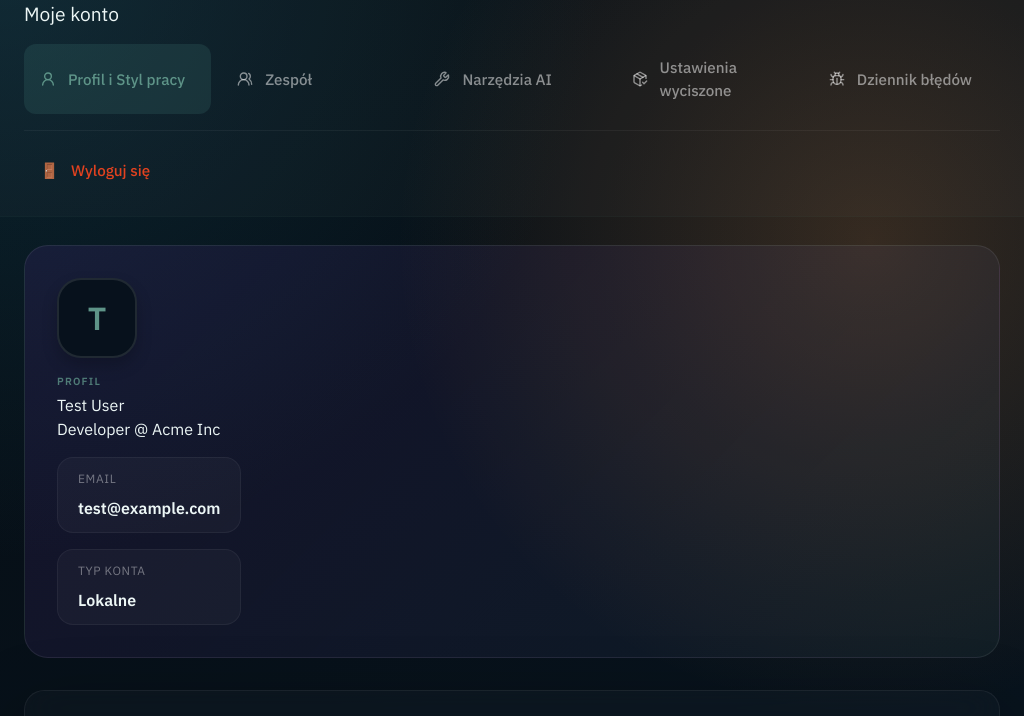
Scenario: ProfileTab › Tag Manager Section › allows editing tag names
This screenshot has width=1024, height=716.
What coordinates should you click on to do the following:
click the button "Narzędzia AI"
I would click on:
 (512, 79)
Its box is x1=418 y1=44 x2=606 y2=114.
(page scrolled)
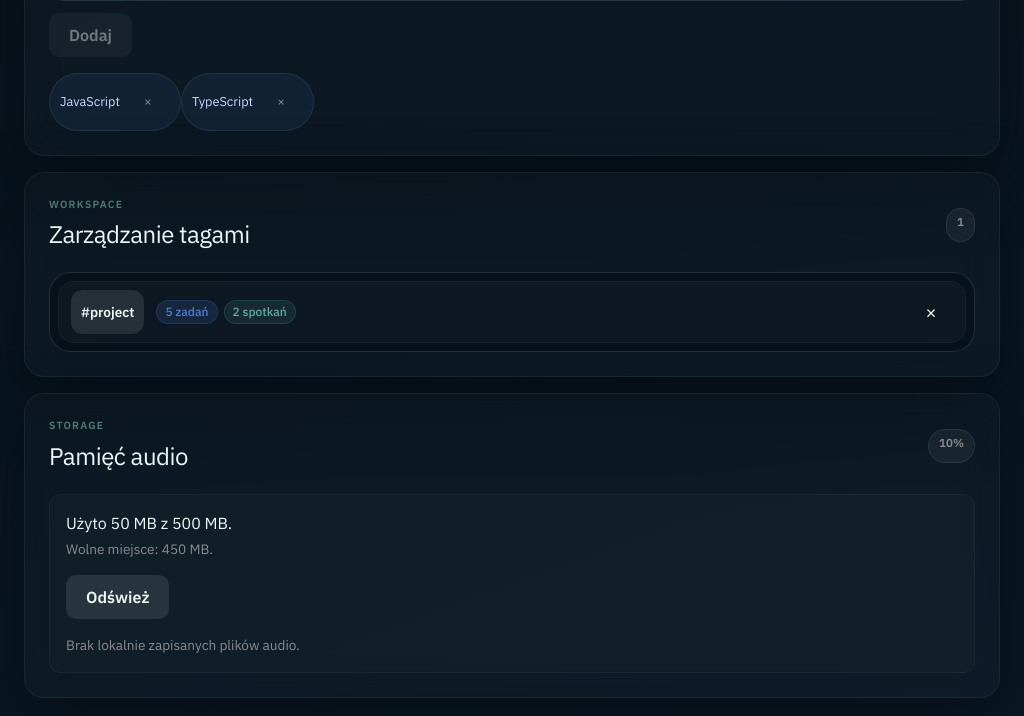
Expected: the button "#project" is shown
What coordinates should you click on to do the following:
click the button "#project"
I would click on:
 (108, 312)
Its box is x1=71 y1=290 x2=144 y2=334.
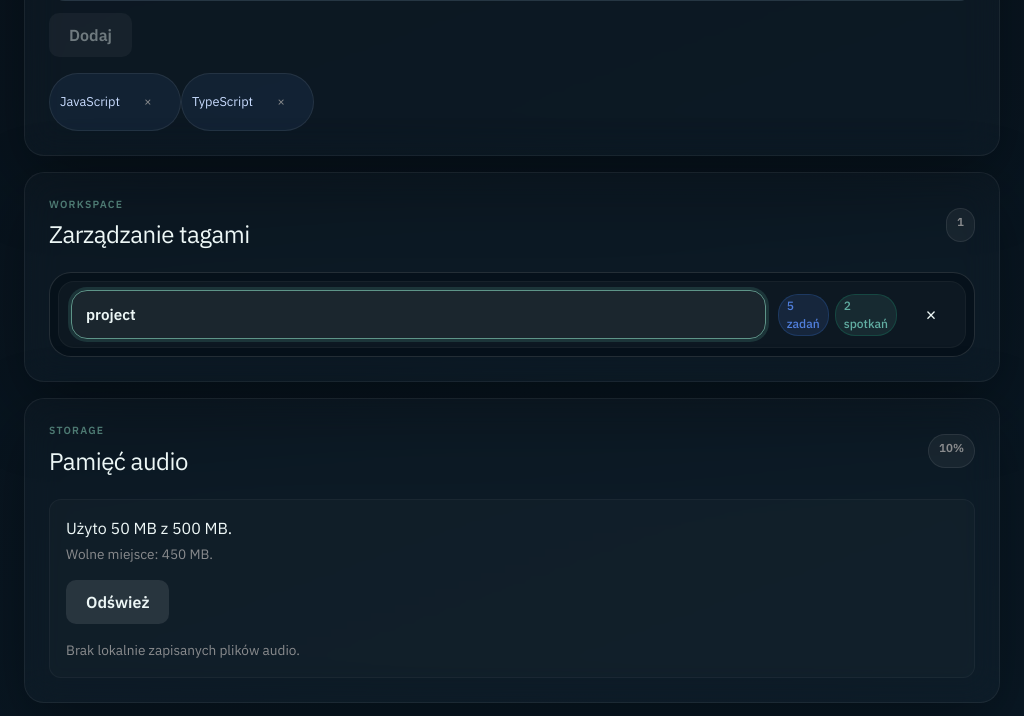
Expected: the field showing "project" is shown, x1=71 y1=290 x2=766 y2=339
